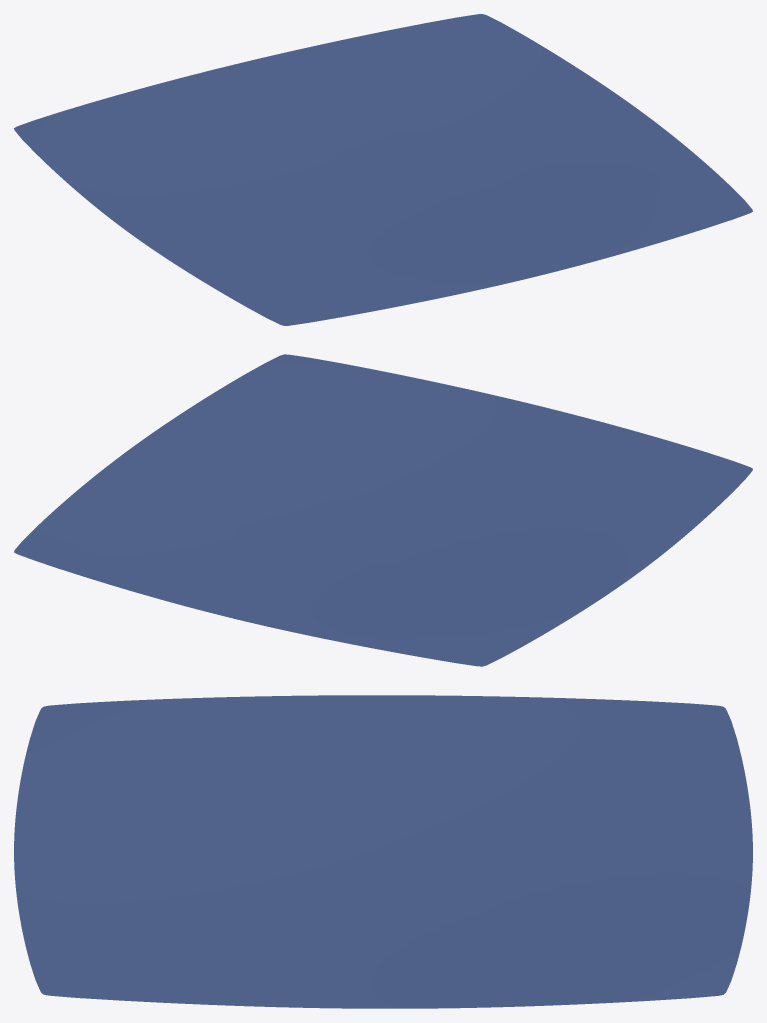
File: Water_Plane_Large_Pool.fbx
3 views of the same model, one above another, from view 1: azimuth 30°, elevation 25°; view 2: azimuth 150°, elevation 25°; view 3: azimuth 270°, elevation 25° (orthographic). The views are drawn at different scales.
Visible parts, largest first — view 1: Water_Plane_Large_Pool; view 2: Water_Plane_Large_Pool; view 3: Water_Plane_Large_Pool.
Boxes of the visible parts, box(x1,y1,x2,y2) form: Water_Plane_Large_Pool: box(14, 14, 752, 325); Water_Plane_Large_Pool: box(14, 354, 752, 666); Water_Plane_Large_Pool: box(14, 695, 752, 1008).
Size of the model in its own units: 3092 by 3088 by 32.53.
